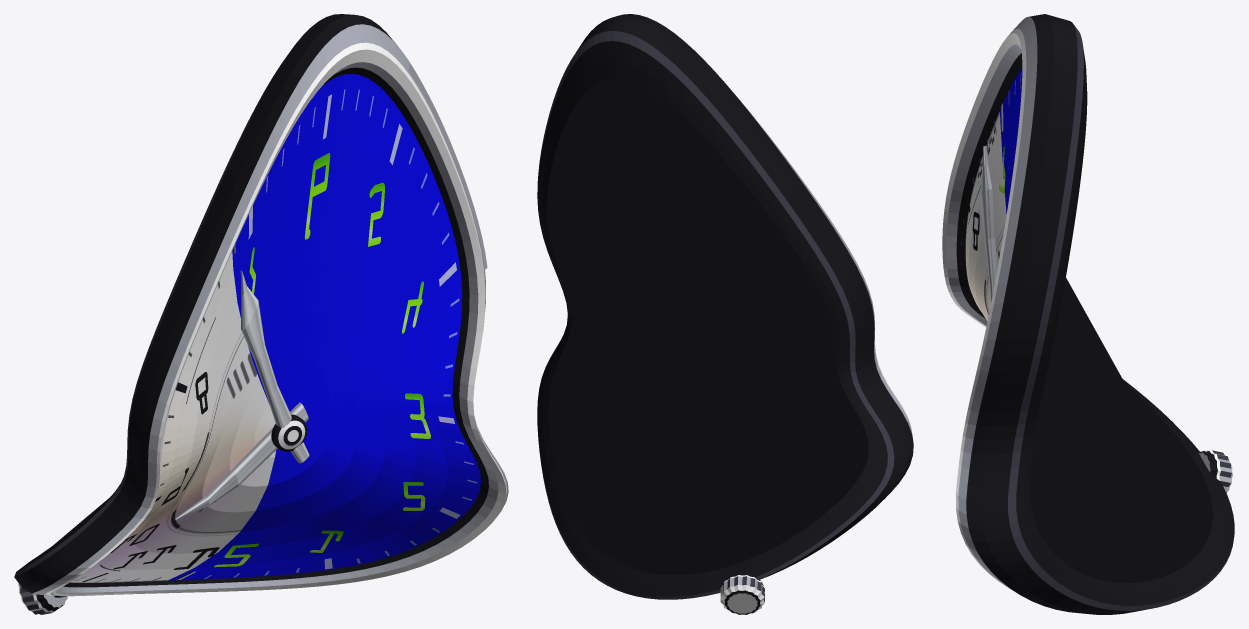
Rendered from clock-04.obj.
3 views of the same model, side by side, from view 1: azimuth 30°, elevation 25°; view 2: azimuth 150°, elevation 25°; view 3: azimuth 270°, elevation 25° (orthographic). The views are drawn at different scales.
Parts seen in each view (by area): view 1: clock-04; view 2: clock-04; view 3: clock-04.
Part boxes in pixels (x1,y1,x2,y2): clock-04: (14,14,508,614); clock-04: (537,14,913,614); clock-04: (942,14,1234,614).
Size of the model in its own units: 1.48 by 1.94 by 0.8716.
Materials: 11 (3 with a texture image).
